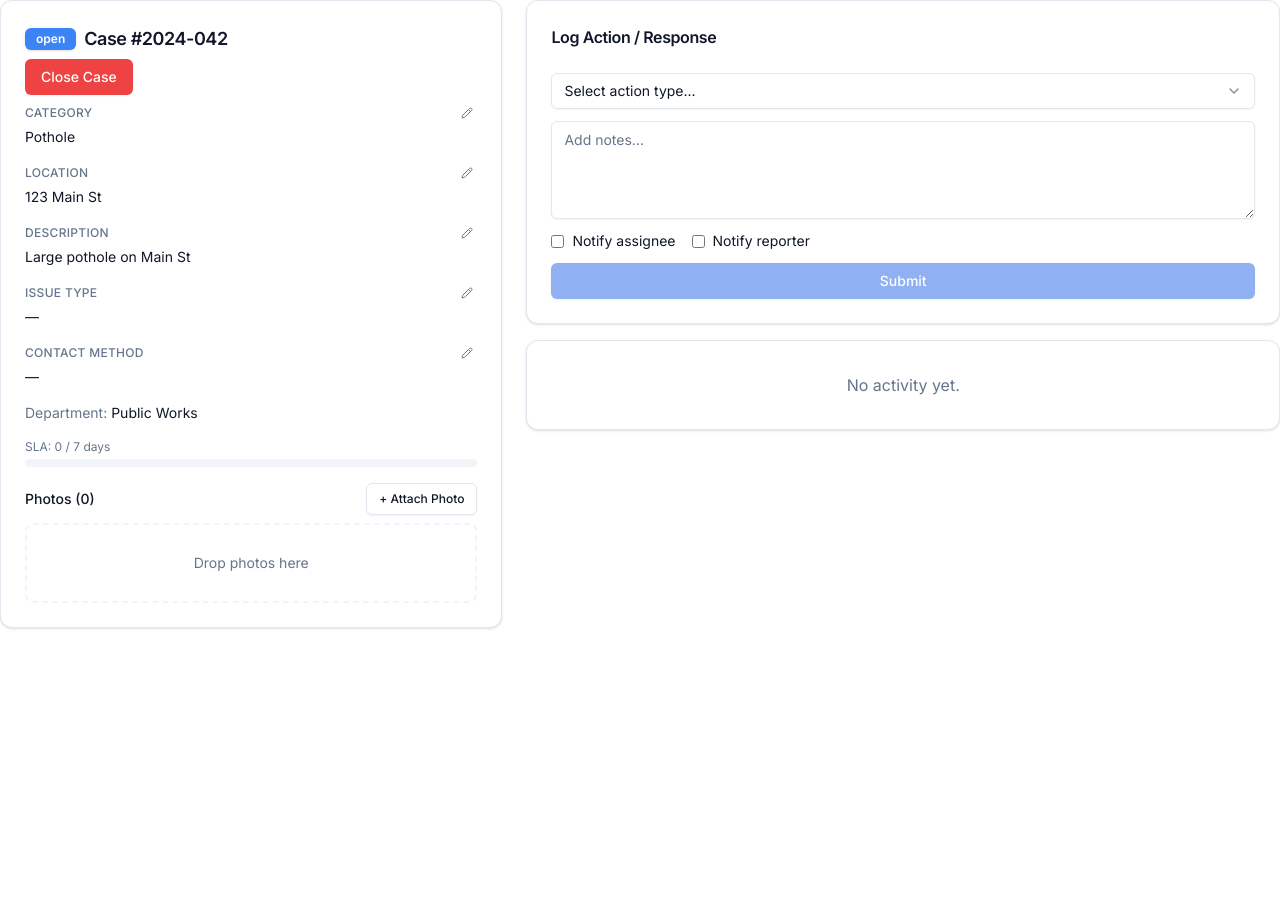
Test case: CloseDialog requires substatus before enabling confirm button
# Click to open the dialog
Click the button "Close Case". click: (79,77)
box: top-left (25, 59), bottom-right (133, 95)
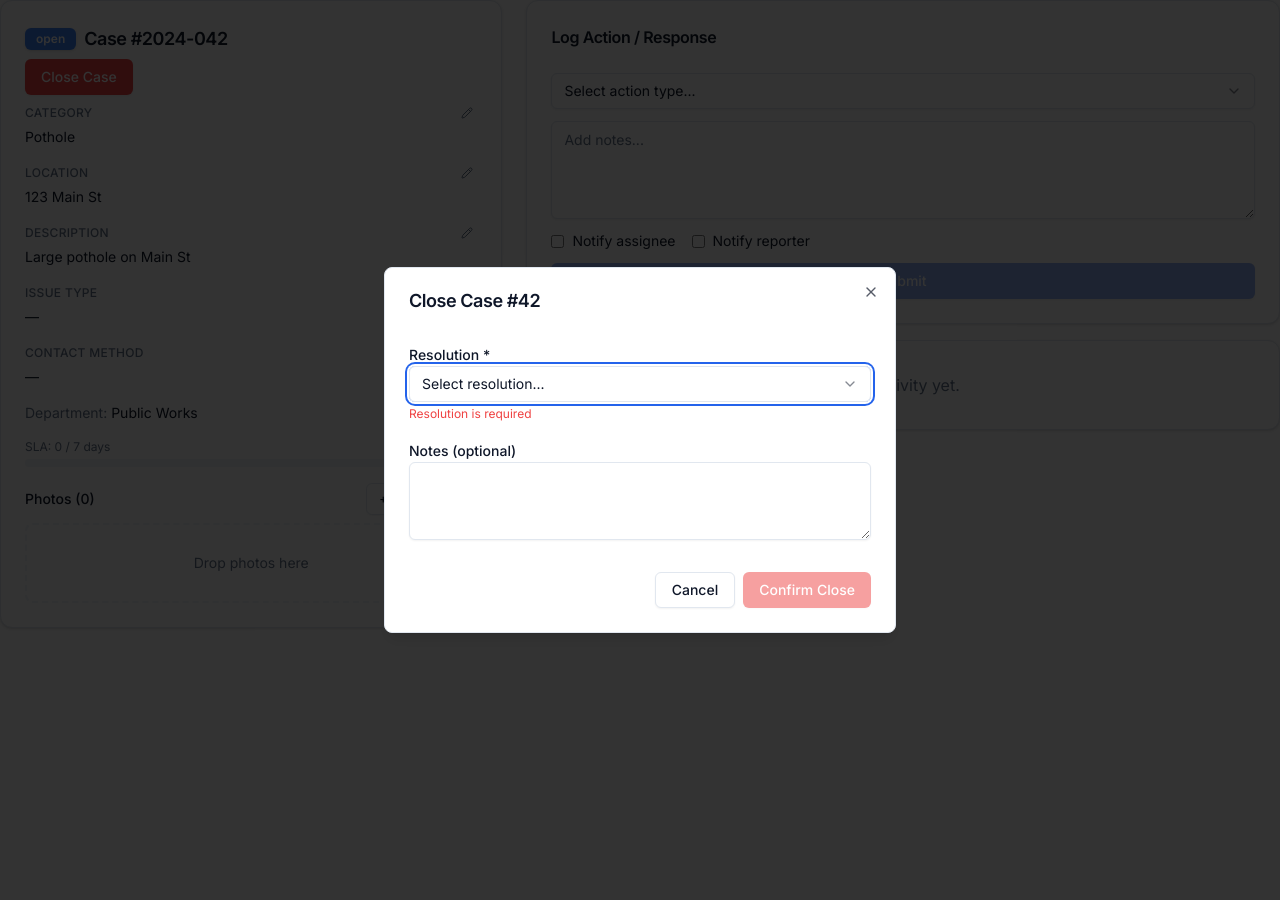
Expected: the button "Confirm Close" is disabled, top-left (743, 572), bottom-right (871, 608)
